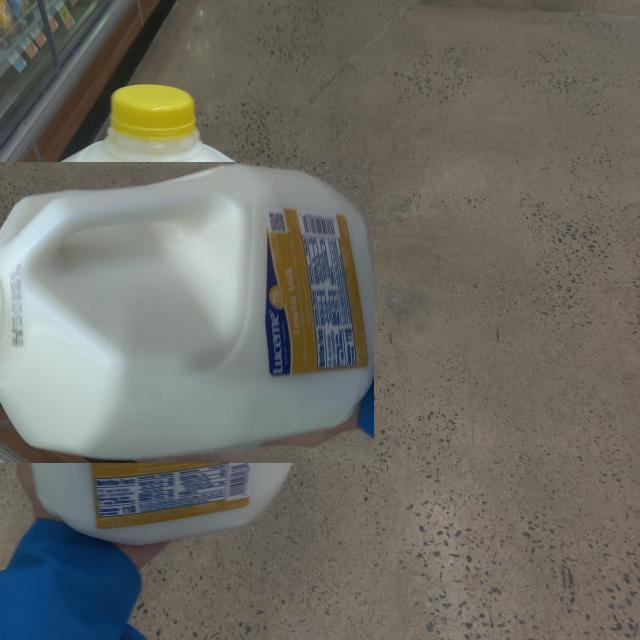Milk: (0, 162, 374, 463)
